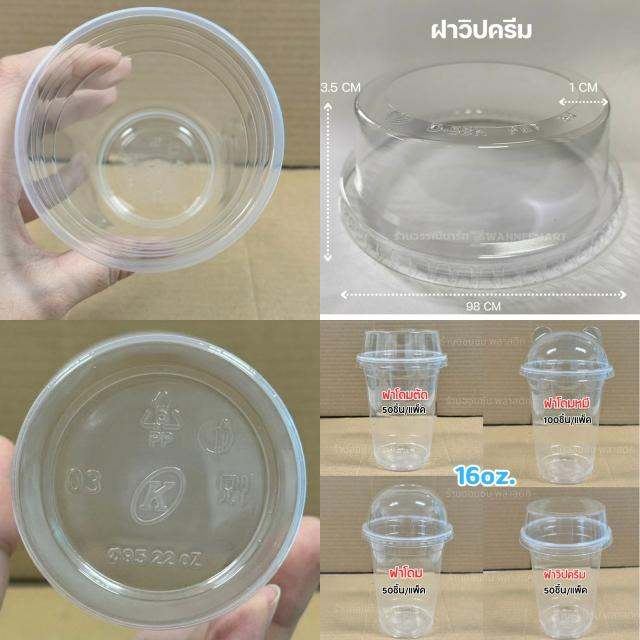Single-Use-Plastic: (12, 332, 306, 629), (15, 8, 284, 272), (341, 62, 622, 288), (520, 328, 614, 483), (362, 485, 454, 638), (356, 331, 448, 471), (520, 498, 612, 638)
